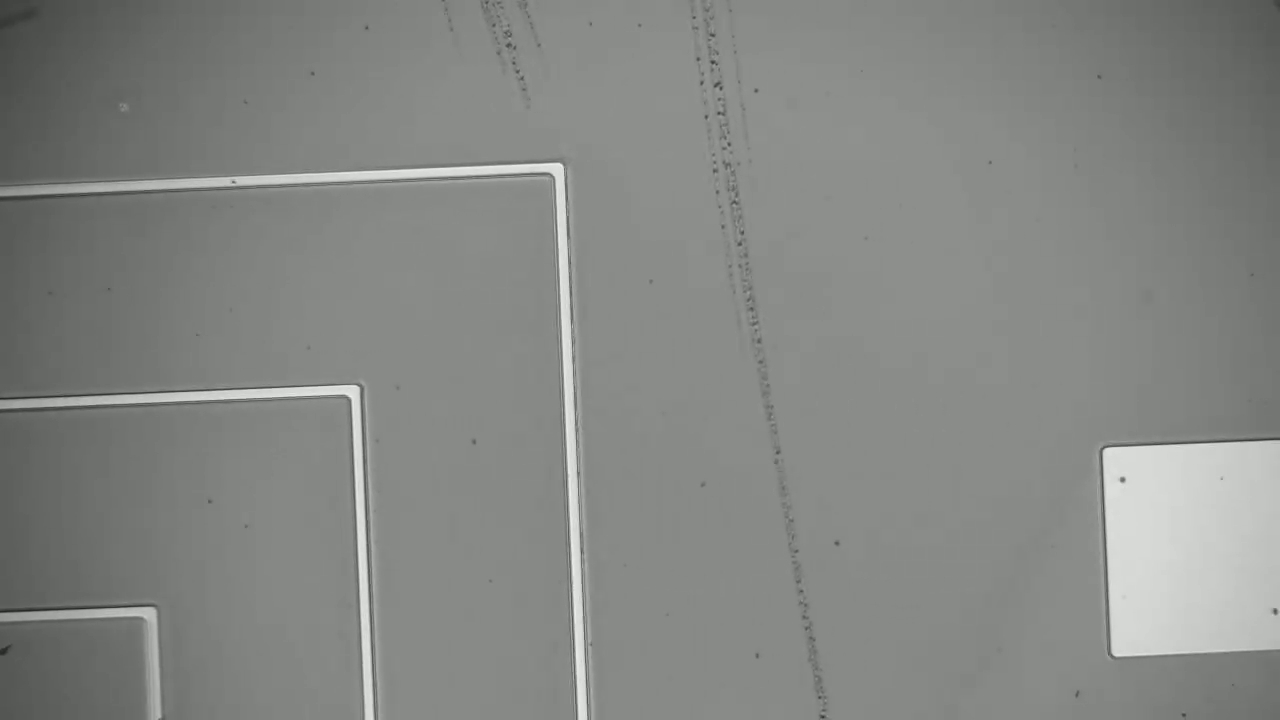scratch: (686, 8, 837, 719), (462, 1, 533, 106)
